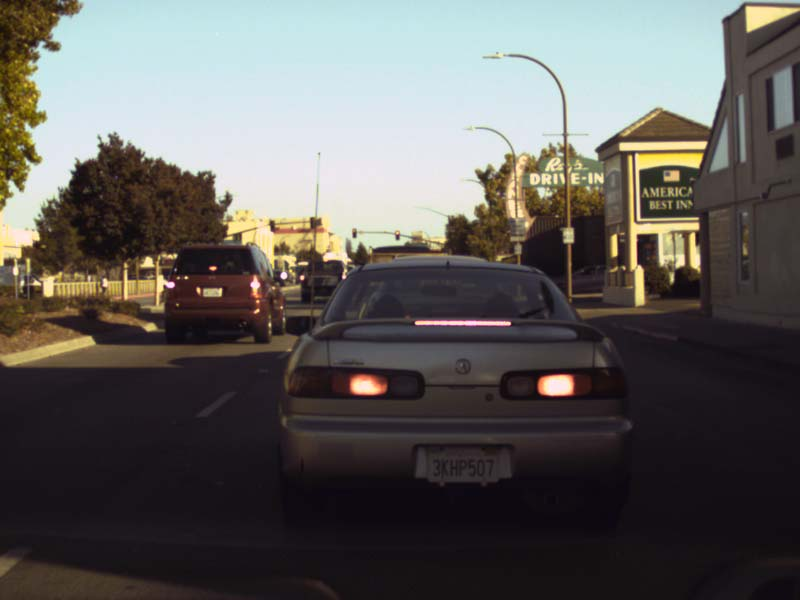Red: (351, 227, 357, 238), (394, 230, 399, 239)
